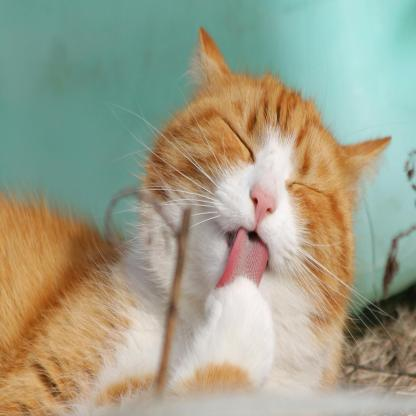cat: (0, 24, 393, 416)
